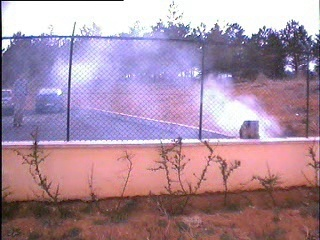smoke: (137, 27, 281, 139)
